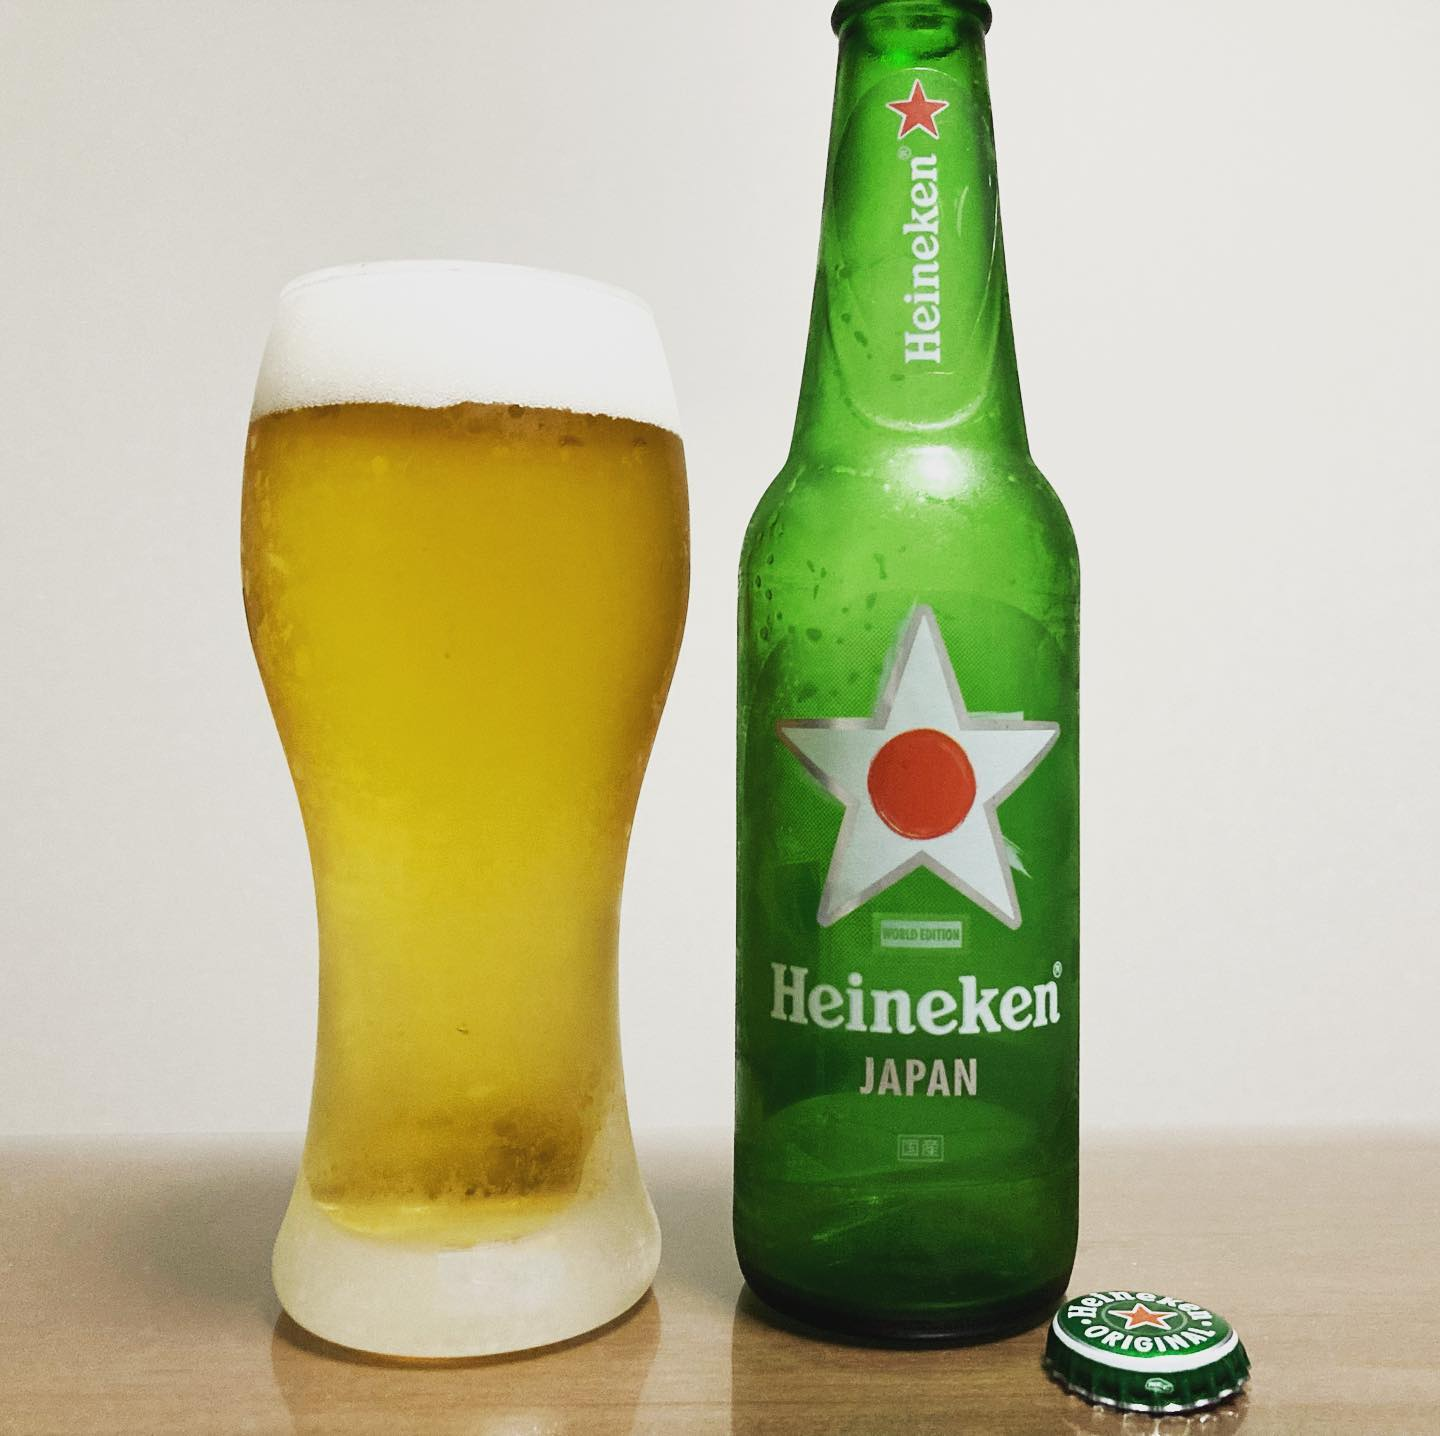alcohol: (231, 249, 700, 1379), (725, 0, 1090, 1361)
